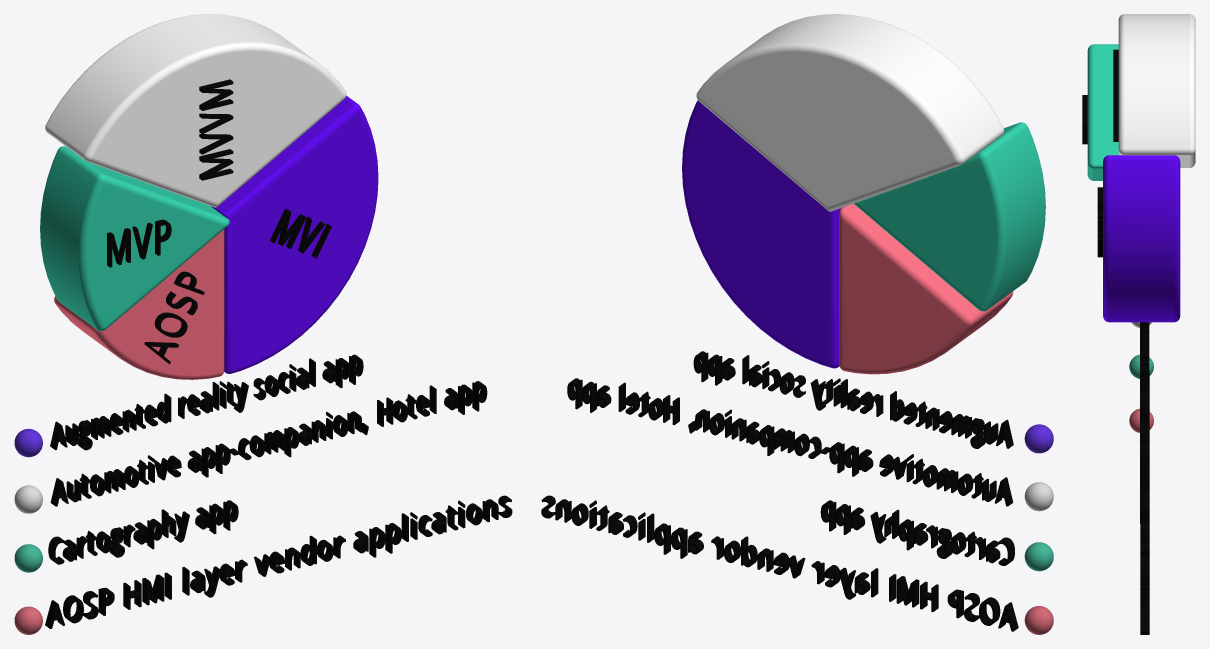
Rendered from AppsArcitecture.glb.
3 views of the same model, side by side, from view 1: azimuth 30°, elevation 25°; view 2: azimuth 150°, elevation 25°; view 3: azimuth 270°, elevation 25° (orthographic). The views are drawn at different scales.
Visible parts, largest first — view 1: Cylinder 3 & Cylinder 2, Cylinder 3 & Cylinder 20, Cylinder 3 & Cylinder 6 & Box, Cylinder 3 & Cylinder 6 & Box0, 3D Text 1 - M; view 2: Cylinder 3 & Cylinder 2, Cylinder 3 & Cylinder 20, Cylinder 3 & Cylinder 6 & Box, Cylinder 3 & Cylinder 6 & Box0; view 3: Cylinder 3 & Cylinder 20, Cylinder 3 & Cylinder 2, Cylinder 3 & Cylinder 6 & Box, Sphere 2, Sphere 3, 3D Text 3 - p0, 3D Text 5 - p3, 3D Text - M0.
Part boxes in pixels (x1,y1,x2,y2): Cylinder 3 & Cylinder 2: (45, 14, 346, 207); Cylinder 3 & Cylinder 20: (211, 96, 378, 373); Cylinder 3 & Cylinder 6 & Box: (40, 146, 229, 331); Cylinder 3 & Cylinder 6 & Box0: (54, 229, 224, 379); 3D Text 1 - M: (270, 209, 306, 248); Cylinder 3 & Cylinder 2: (696, 14, 1003, 211); Cylinder 3 & Cylinder 20: (682, 100, 841, 368); Cylinder 3 & Cylinder 6 & Box: (854, 122, 1045, 311); Cylinder 3 & Cylinder 6 & Box0: (839, 203, 1013, 374); Cylinder 3 & Cylinder 20: (1103, 155, 1180, 322); Cylinder 3 & Cylinder 2: (1118, 14, 1195, 167); Cylinder 3 & Cylinder 6 & Box: (1087, 44, 1118, 180); Sphere 2: (1129, 354, 1153, 378); Sphere 3: (1129, 408, 1153, 432); 3D Text 3 - p0: (1140, 400, 1149, 422); 3D Text 5 - p3: (1140, 501, 1149, 523); 3D Text - M0: (1113, 49, 1118, 81).
Bounding box in the file's own units: 0.1607 × 0.1735 × 0.0367.
